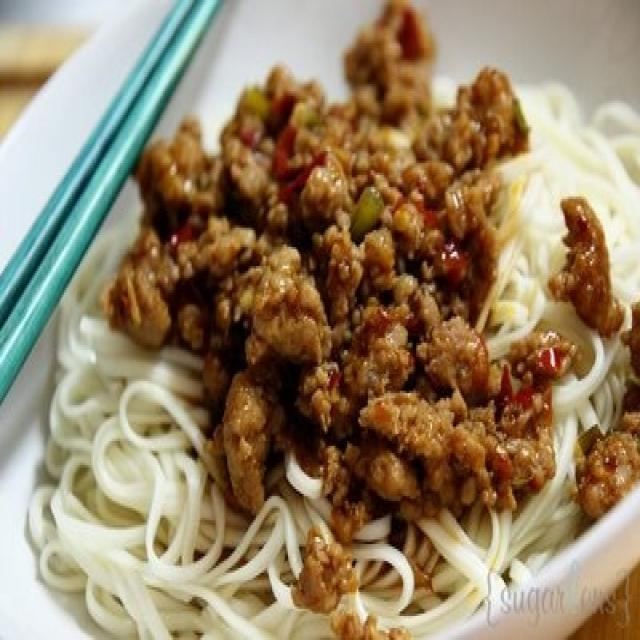面条主食: (51, 29, 626, 621)
